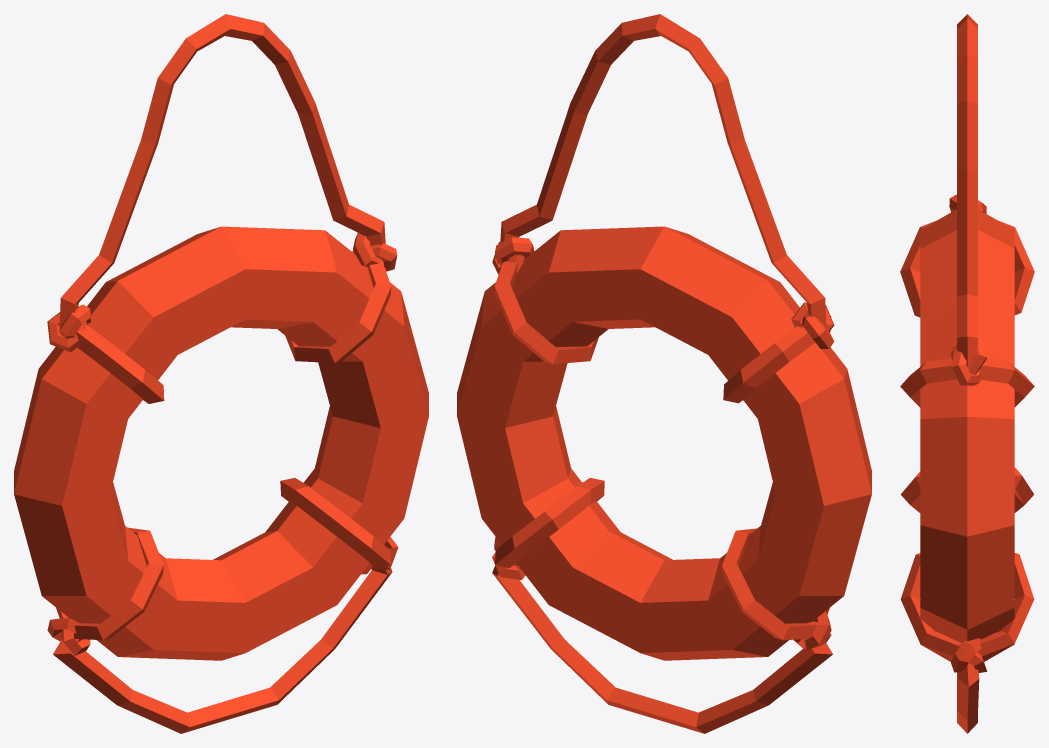
Rendered from SM_Life_Buoy_City.fbx.
3 renders of one model, left to right at view 1: azimuth 30°, elevation 25°; view 2: azimuth 150°, elevation 25°; view 3: azimuth 270°, elevation 25°, orthographic.
Visible parts, largest first — view 1: SM_Life_Buoy_City; view 2: SM_Life_Buoy_City; view 3: SM_Life_Buoy_City.
Boxes of the visible parts, x1,y1,x2,y2 form: SM_Life_Buoy_City: [14, 14, 428, 733]; SM_Life_Buoy_City: [457, 14, 871, 733]; SM_Life_Buoy_City: [900, 14, 1034, 733].
Size of the model in its own units: 0.6916 by 1.13 by 0.1982.
